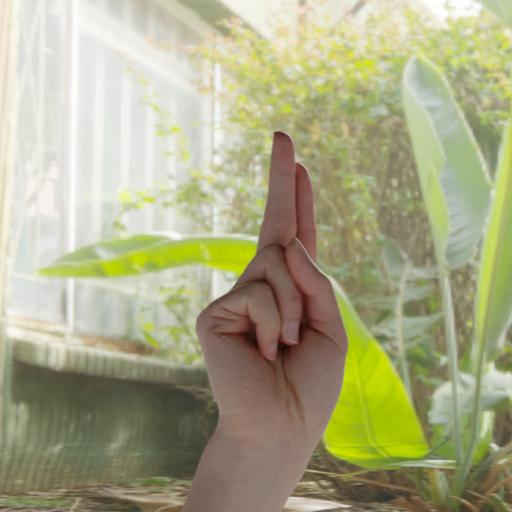U: (188, 126, 354, 466)
